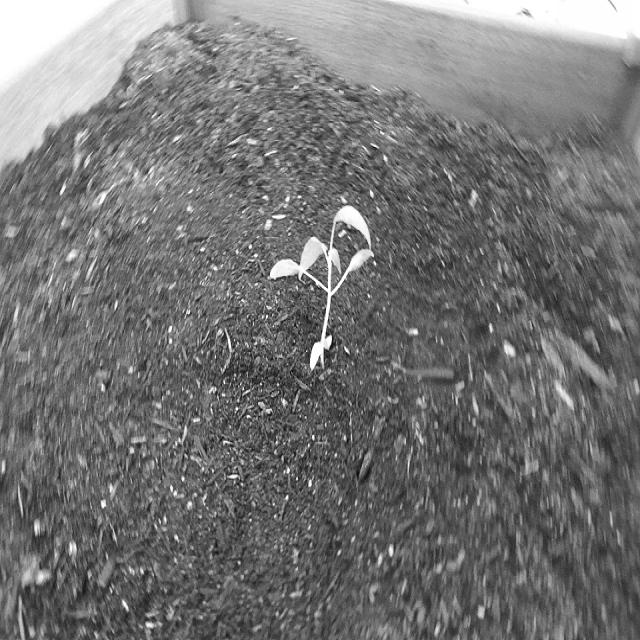Healthy: (268, 196, 382, 391)
